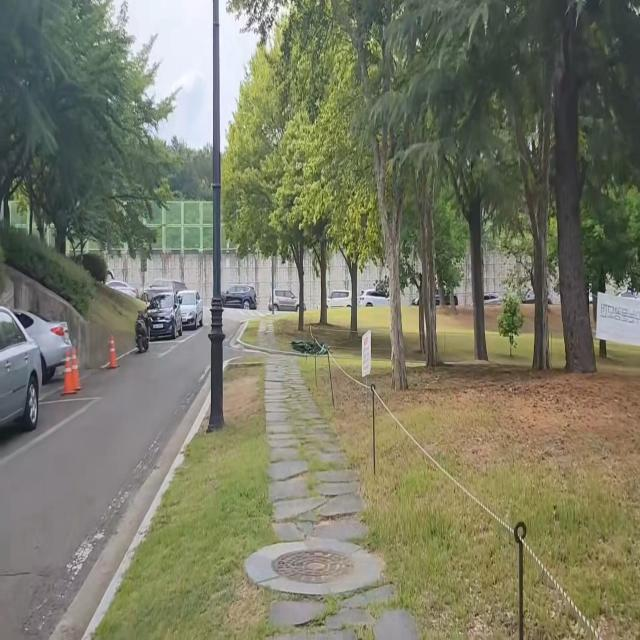obstacle: (0, 299, 77, 467), (132, 279, 212, 367), (207, 0, 223, 433)
road: (0, 313, 249, 640)
